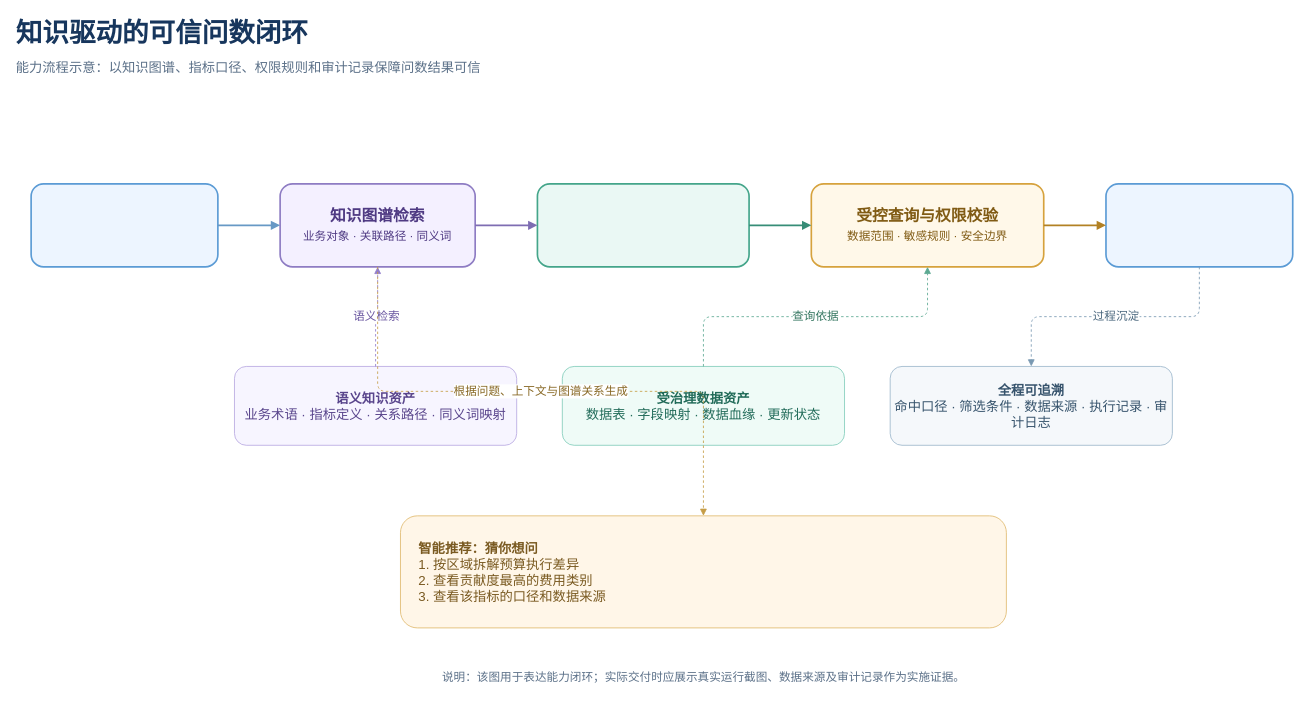
The diagram is 1307 pixels wide and 704 high, and some of its shapes have lost their labels. Here are the shapes that lost their labels. From the top down, the centre of each, then its label:
At point (124, 225): "用户问题 “项目预算执行情况如何？”".
At point (642, 225): "指标口径校验 公式 · 维度 · 时间范围 · 版本".
At point (1199, 225): "可信结果交付 结论 · 图表 · 数据来源 · 依据".
